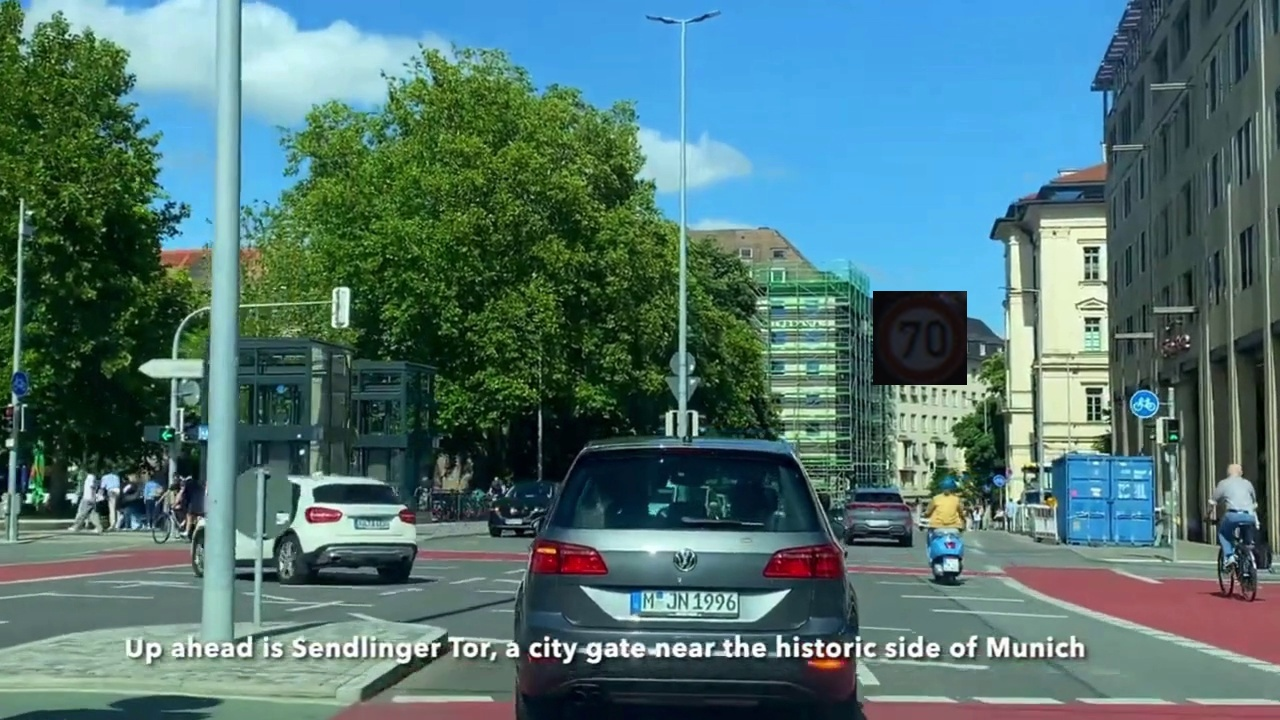Speed 70: (873, 291, 967, 385)
